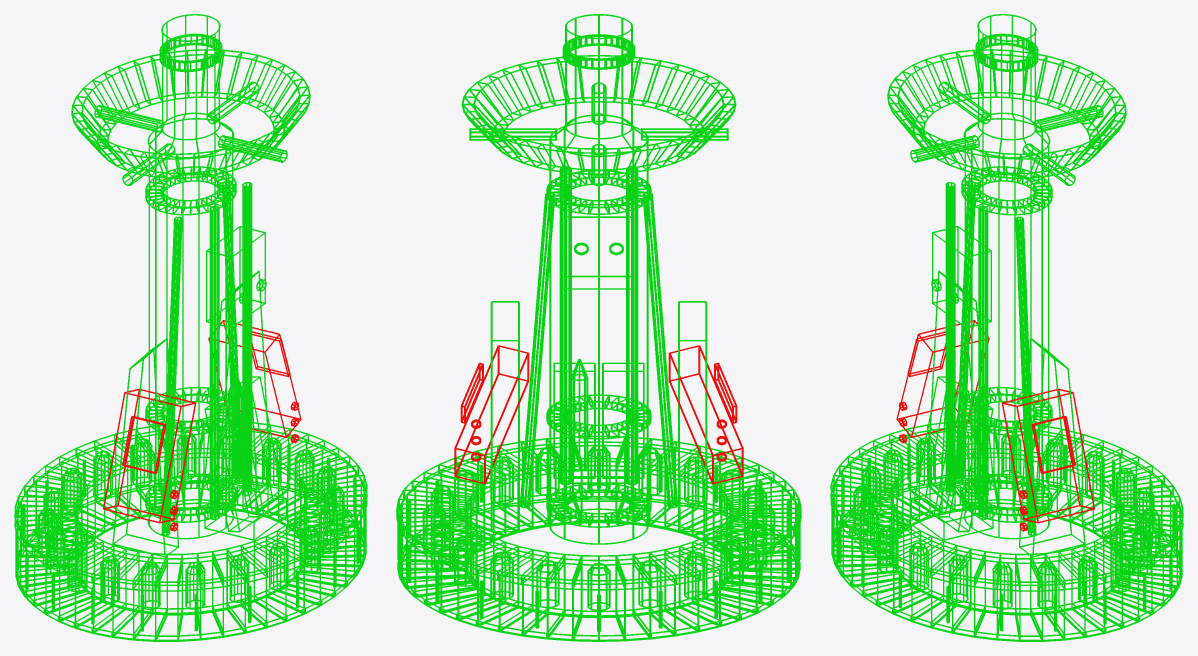
The model's file is missile-bay-extension-highlight-targeting-control.glb.
The picture shows the model from 3 angles, left to right: view 1: azimuth 30°, elevation 25°; view 2: azimuth 150°, elevation 25°; view 3: azimuth 270°, elevation 25°; orthographic projection.
Visible parts, largest first — view 1: revolving-storage-rack technical wire, chassis technical wire, missile-loading-assembly technical wire, targeting-control technical wire; view 2: revolving-storage-rack technical wire, chassis technical wire, missile-loading-assembly technical wire, targeting-control technical wire; view 3: revolving-storage-rack technical wire, chassis technical wire, missile-loading-assembly technical wire, targeting-control technical wire.
Part boxes in pixels (bbox=[...]): revolving-storage-rack technical wire: bbox=[14, 420, 367, 641]; chassis technical wire: bbox=[71, 14, 310, 557]; missile-loading-assembly technical wire: bbox=[204, 182, 287, 540]; targeting-control technical wire: bbox=[103, 320, 301, 531]; revolving-storage-rack technical wire: bbox=[396, 435, 801, 641]; chassis technical wire: bbox=[461, 14, 736, 544]; missile-loading-assembly technical wire: bbox=[553, 166, 644, 501]; targeting-control technical wire: bbox=[454, 345, 743, 484]; revolving-storage-rack technical wire: bbox=[830, 420, 1183, 641]; chassis technical wire: bbox=[887, 14, 1126, 557]; missile-loading-assembly technical wire: bbox=[910, 182, 993, 540]; targeting-control technical wire: bbox=[896, 320, 1094, 531].
Size of the model in its own units: 2.36 by 3.64 by 2.18.
